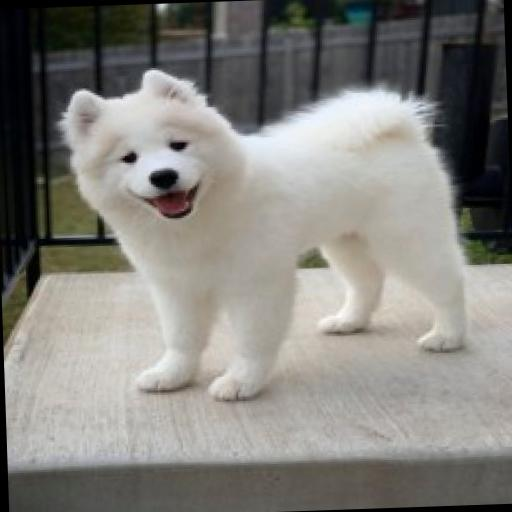dog: (52, 58, 490, 411)
